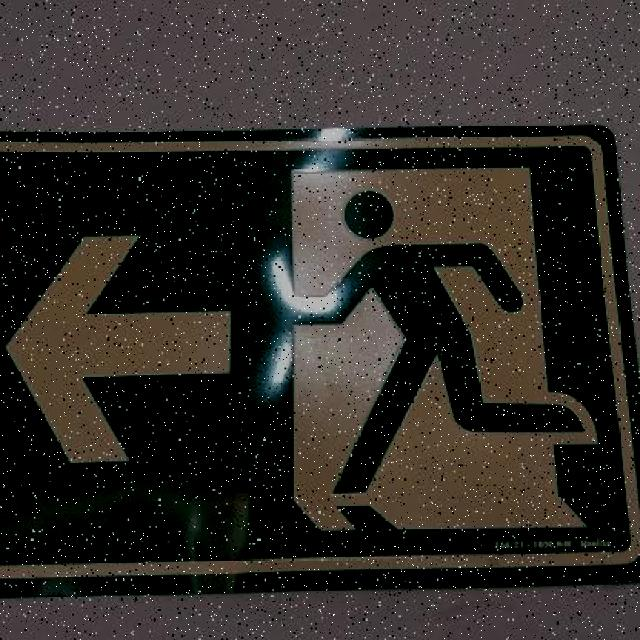emergency_exit: (1, 123, 638, 592)
